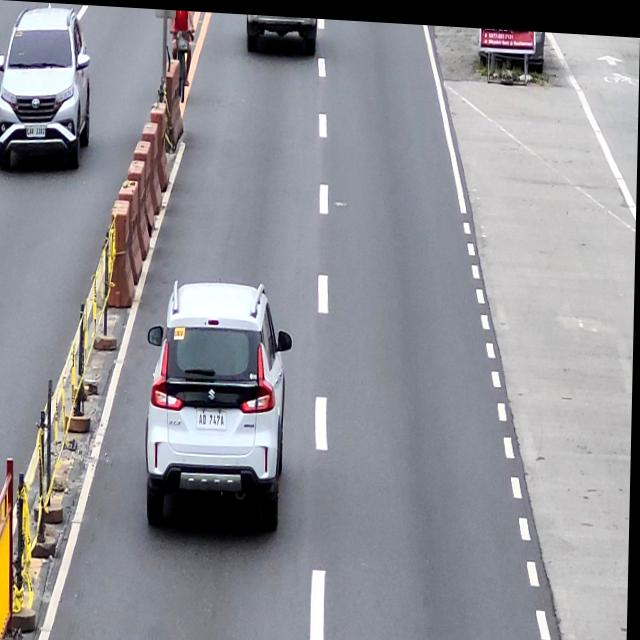Car: (145, 275, 296, 539)
License-Plate: (197, 409, 230, 427)
